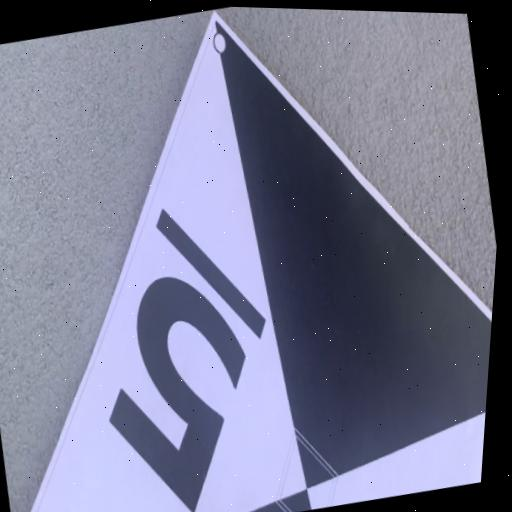target5: (29, 13, 492, 512)
